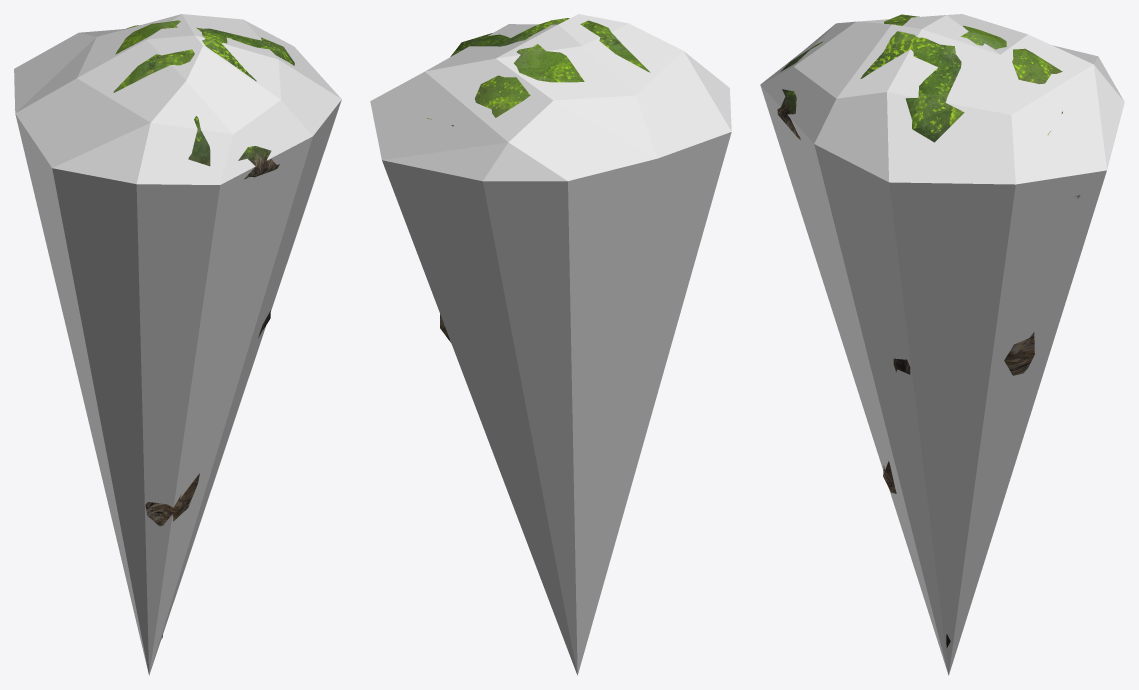
Rendered from RockDollip1.fbx.
3 renders of one model, left to right at view 1: azimuth 30°, elevation 25°; view 2: azimuth 150°, elevation 25°; view 3: azimuth 270°, elevation 25°, orthographic. The views are drawn at different scales.
Parts seen in each view (by area): view 1: IslandDollopCollmesh, IslandDollop; view 2: IslandDollopCollmesh, IslandDollop; view 3: IslandDollopCollmesh, IslandDollop.
Boxes of the visible parts, box(x1,y1,x2,y2) form: IslandDollopCollmesh: box(14, 14, 341, 675); IslandDollop: box(113, 20, 294, 638); IslandDollopCollmesh: box(370, 14, 731, 675); IslandDollop: box(427, 18, 650, 342); IslandDollopCollmesh: box(760, 14, 1124, 675); IslandDollop: box(777, 14, 1080, 647).
Size of the model in its own units: 1031 by 2085 by 1036.
